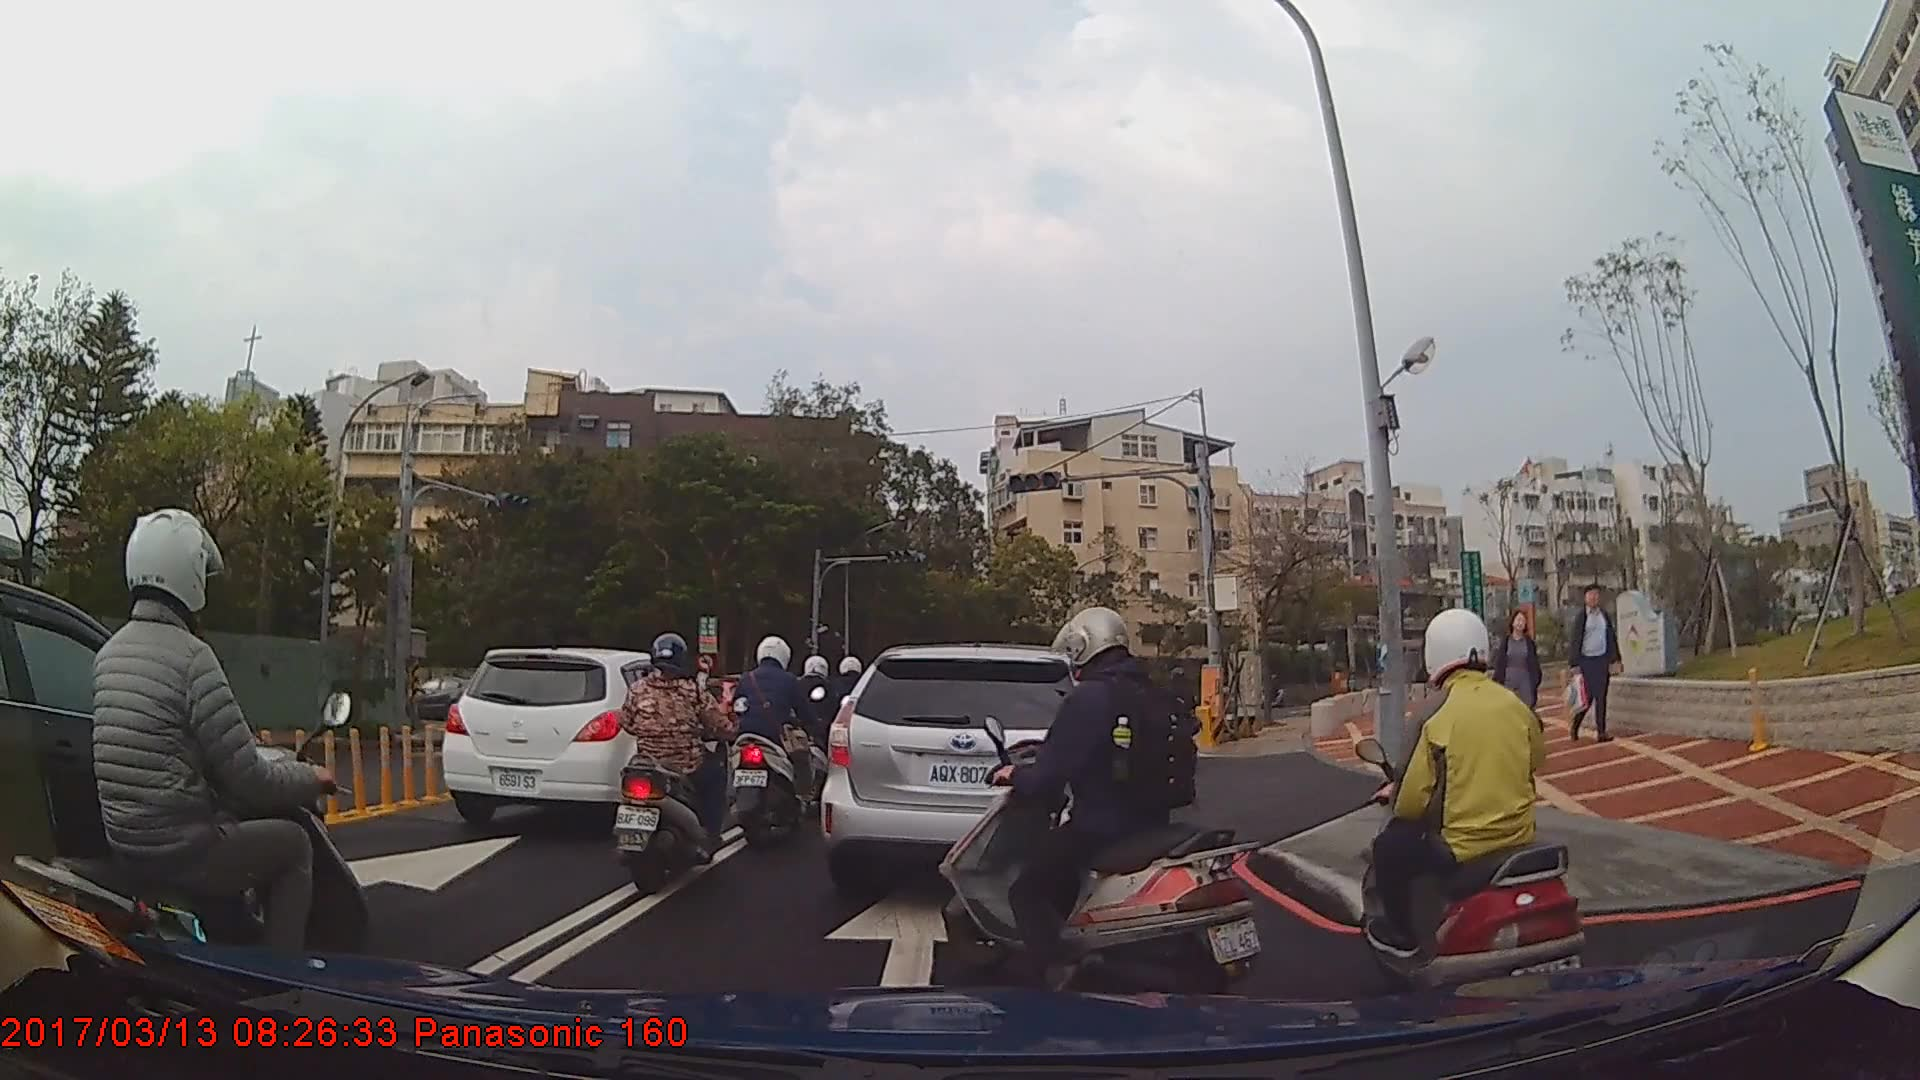pedestrian: (1484, 613, 1549, 768), (1570, 584, 1631, 744)
rider: (47, 505, 380, 1054), (939, 609, 1266, 1004), (1347, 604, 1583, 1031), (613, 632, 737, 896), (725, 633, 827, 846), (795, 656, 850, 801), (1147, 671, 1205, 763)
vehicle: (0, 578, 330, 957), (819, 640, 1118, 906), (438, 645, 729, 826), (403, 672, 492, 720)
